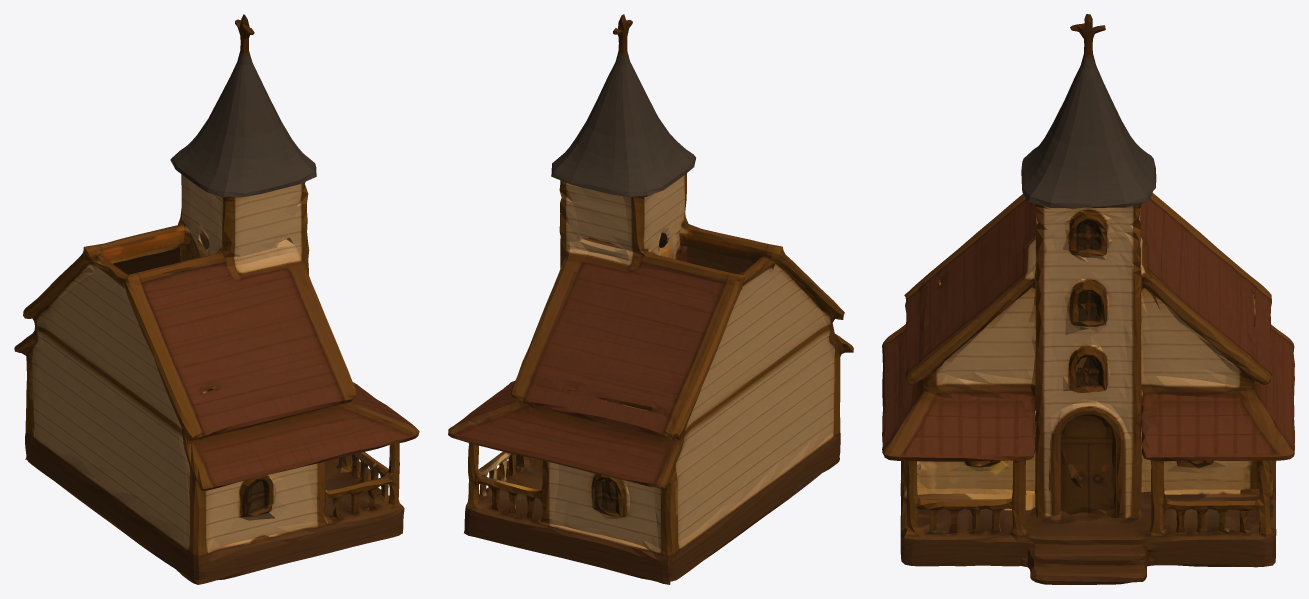
The model's file is iglesia_misional_pelchuquin.glb.
3 views of the same model, side by side, from view 1: azimuth 30°, elevation 25°; view 2: azimuth 150°, elevation 25°; view 3: azimuth 270°, elevation 25° (orthographic). The views are drawn at different scales.
Parts seen in each view (by area): view 1: tripo_node_fbe701e1-cbac-4cd1-94c4-3ed106af2646; view 2: tripo_node_fbe701e1-cbac-4cd1-94c4-3ed106af2646; view 3: tripo_node_fbe701e1-cbac-4cd1-94c4-3ed106af2646.
Boxes of the visible parts, <box> form: tripo_node_fbe701e1-cbac-4cd1-94c4-3ed106af2646: <box>14,14,419,584</box>; tripo_node_fbe701e1-cbac-4cd1-94c4-3ed106af2646: <box>448,14,853,584</box>; tripo_node_fbe701e1-cbac-4cd1-94c4-3ed106af2646: <box>882,14,1294,584</box>.
Size of the model in its own units: 0.546 by 0.9952 by 0.7248.
Materials: 1 (1 with a texture image).
